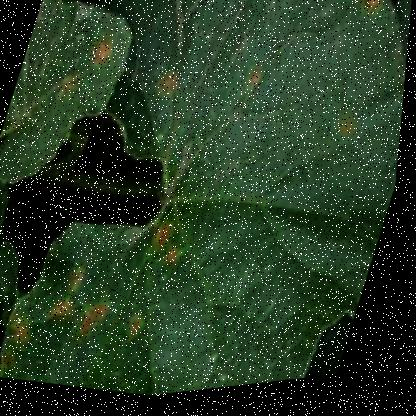AlternariaBrassicicola: (140, 210, 205, 281), (72, 291, 127, 356), (235, 53, 278, 107), (81, 26, 126, 76), (6, 310, 48, 362), (118, 306, 159, 358), (148, 64, 190, 110), (354, 0, 391, 40), (18, 365, 56, 387), (142, 384, 186, 400)
